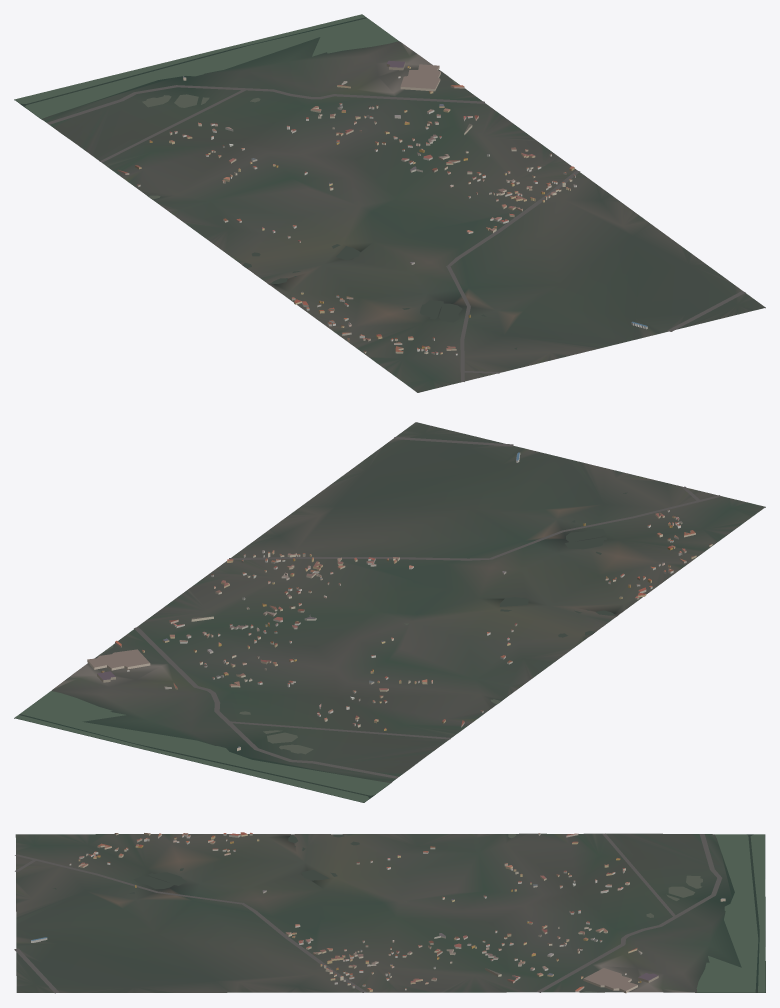
The picture shows the model from 3 angles, top to bottom: view 1: azimuth 30°, elevation 25°; view 2: azimuth 150°, elevation 25°; view 3: azimuth 270°, elevation 25°; orthographic projection. The views are drawn at different scales.
Parts seen in each view (by area): view 1: ground, water, buildings, roads; view 2: ground, water, buildings, roads; view 3: ground, water, buildings, roads.
Boxes of the visible parts, x1=… form: ground: x1=14, y1=17, x2=765, y2=392; water: x1=14, y1=14, x2=572, y2=349; buildings: x1=117, y1=60, x2=647, y2=355; roads: x1=47, y1=85, x2=745, y2=381; ground: x1=14, y1=422, x2=765, y2=802; water: x1=15, y1=479, x2=627, y2=802; buildings: x1=87, y1=452, x2=712, y2=750; roads: x1=134, y1=437, x2=720, y2=778; ground: x1=15, y1=833, x2=765, y2=992; water: x1=53, y1=834, x2=765, y2=992; buildings: x1=31, y1=832, x2=725, y2=993; roads: x1=14, y1=833, x2=722, y2=993.
Size of the model in its own units: 1413 by 22.15 by 2813.
